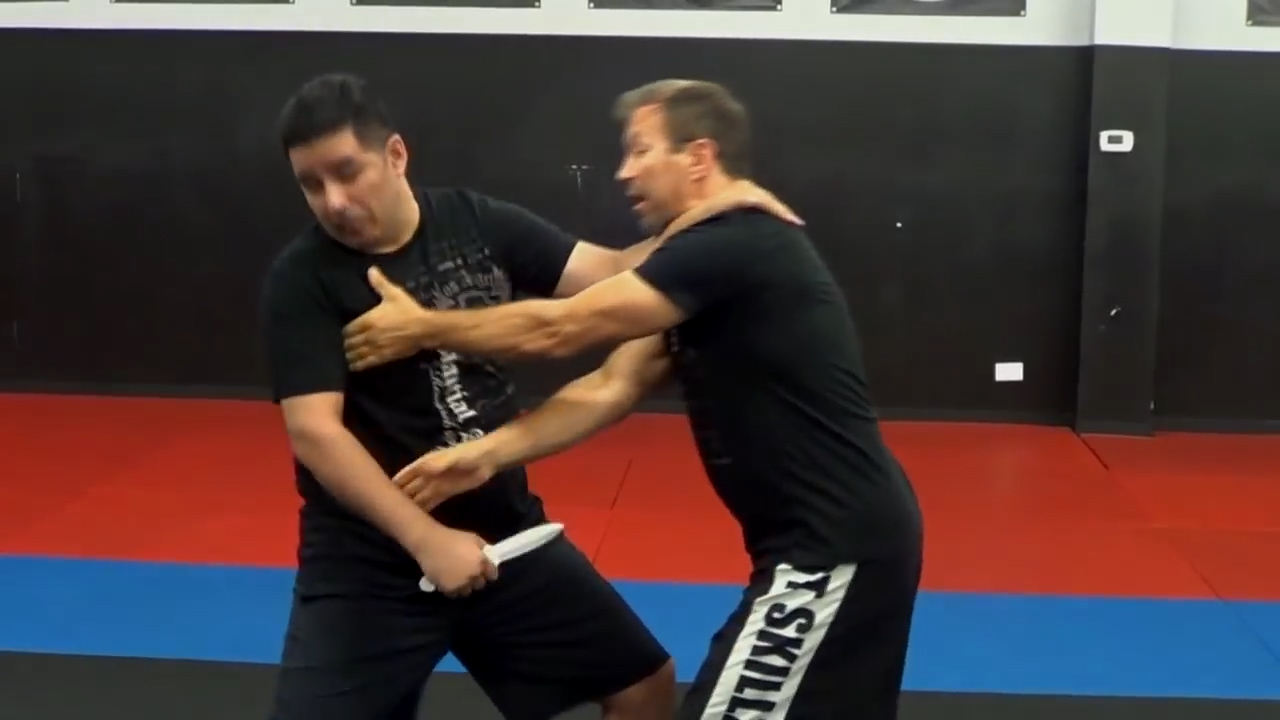knife: (413, 514, 573, 602)
